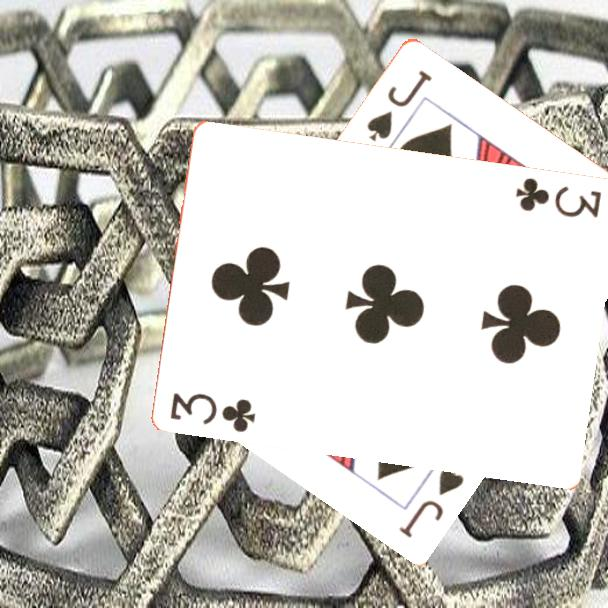c03: (512, 173, 605, 220), (167, 388, 259, 435)
s11: (395, 459, 467, 541), (363, 65, 435, 144)
